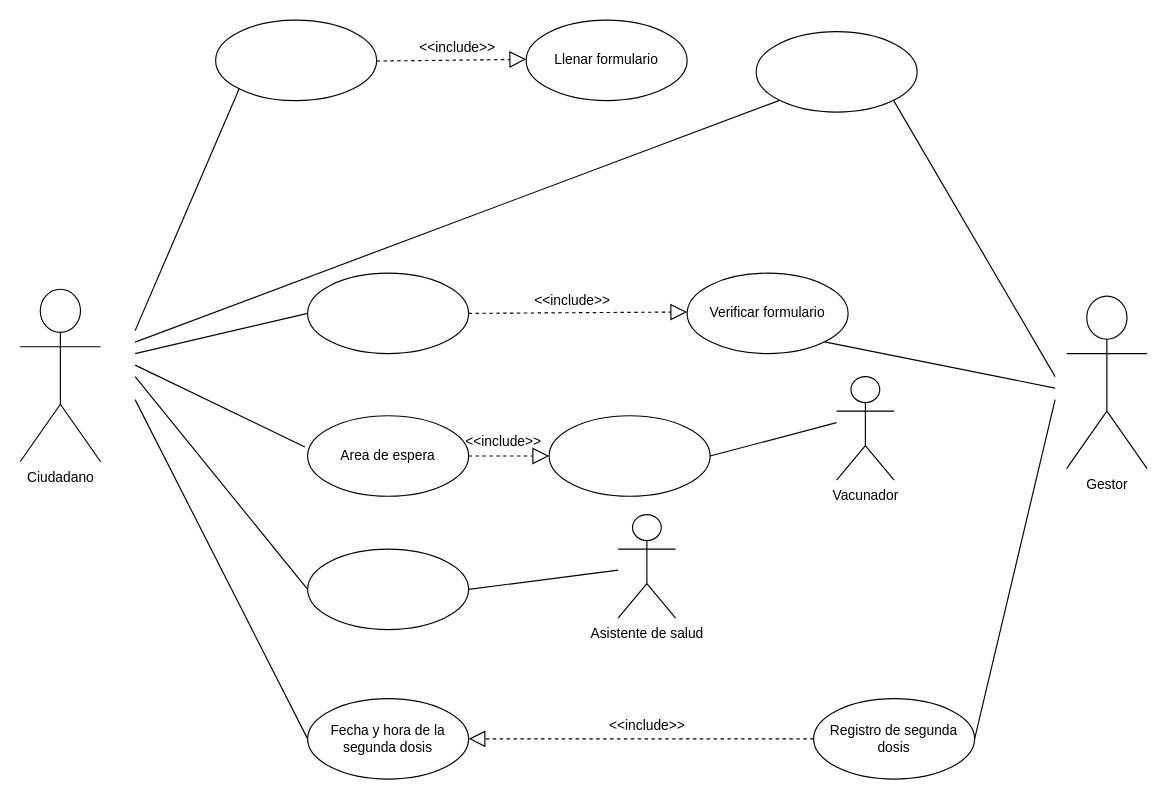
This 1167x799 diagram has some shape labels left out. Here are the shapes that lost their labels. From the top down, the centre of each, then its label:
At point 295,60: "Agendar Cita".
At point 836,71: "Fecha y hora de la Cita".
At point 387,313: "Prechequeo".
At point 629,455: "Vacunación".
At point 387,589: "En vigilancia por 30 min.".
